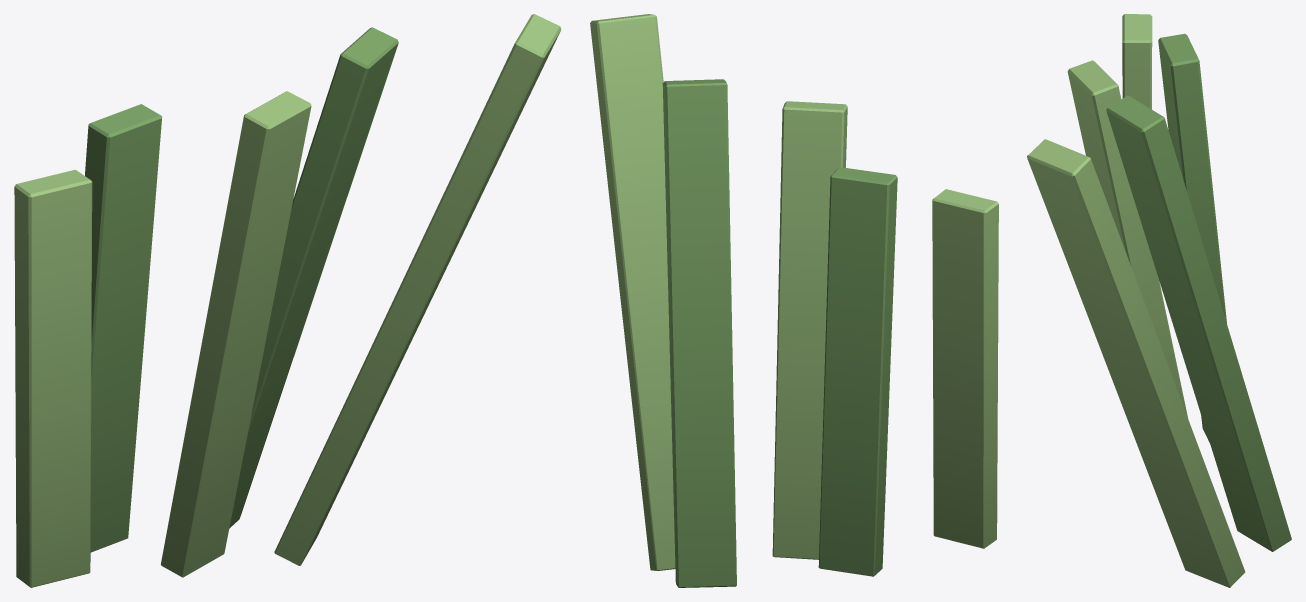
The model's file is grass.glb.
The picture shows the model from 3 angles, left to right: view 1: azimuth 30°, elevation 25°; view 2: azimuth 150°, elevation 25°; view 3: azimuth 270°, elevation 25°; orthographic projection. The views are drawn at different scales.
Parts seen in each view (by area): view 1: Blade0, Blade2, Blade1, Blade4, Blade3; view 2: Blade3, Blade4, Blade1, Blade2, Blade0; view 3: Blade4, Blade3, Blade2, Blade1, Blade0.
Part boxes in pixels (x1,y1,x2,y2): Blade0: (14,169,92,587); Blade2: (161,91,311,577); Blade1: (85,104,161,552); Blade4: (274,14,561,565); Blade3: (229,27,398,528); Blade3: (662,79,736,587); Blade4: (590,14,675,570); Blade1: (818,167,897,576); Blade2: (772,101,847,559); Blade0: (932,189,998,548); Blade4: (1027,139,1245,587); Blade3: (1106,95,1291,551); Blade2: (1067,60,1187,417); Blade1: (1158,33,1226,442); Blade0: (1122,14,1152,109).
Bounding box in the file's own units: 0.3324 × 0.3455 × 0.1684.
